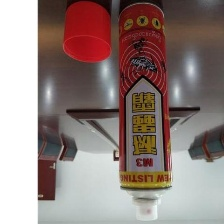aerosol_cans: (114, 0, 175, 221)
